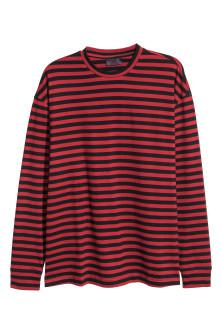teeshirt: (3, 45, 222, 299)
